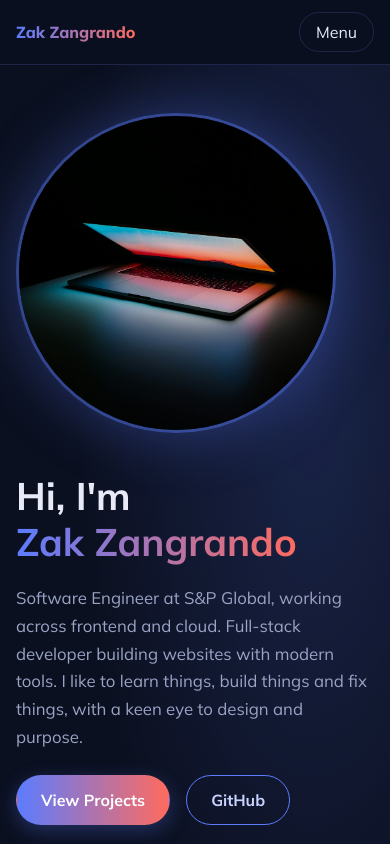
Test case: mobile menu button toggles the navigation
Click the button "Menu" at x=336, y=32, box [299, 12, 374, 52]
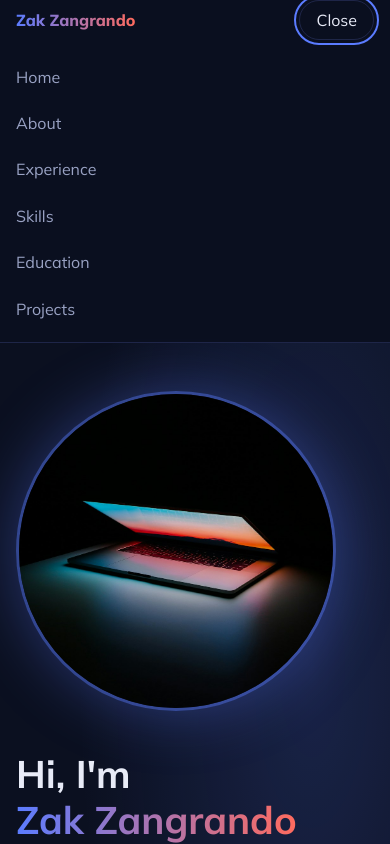
expect the button "Close" is expanded: met, box [300, 0, 374, 40]
